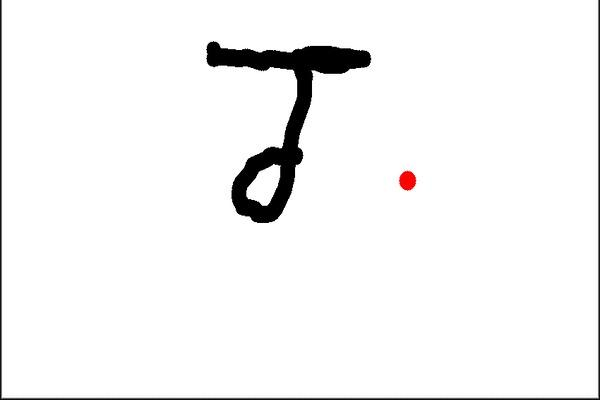J: (201, 29, 375, 231)
